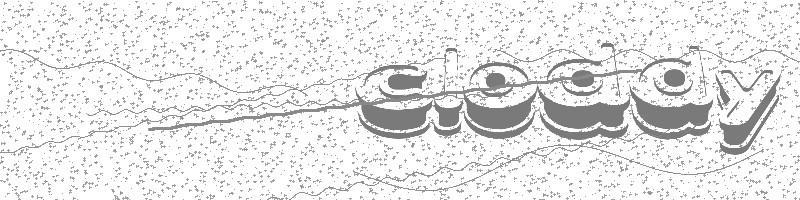c: (354, 62, 433, 140)
d: (537, 42, 631, 140), (631, 45, 712, 140)
l: (434, 47, 464, 138)
o: (463, 62, 537, 140)
y: (715, 66, 781, 156)
